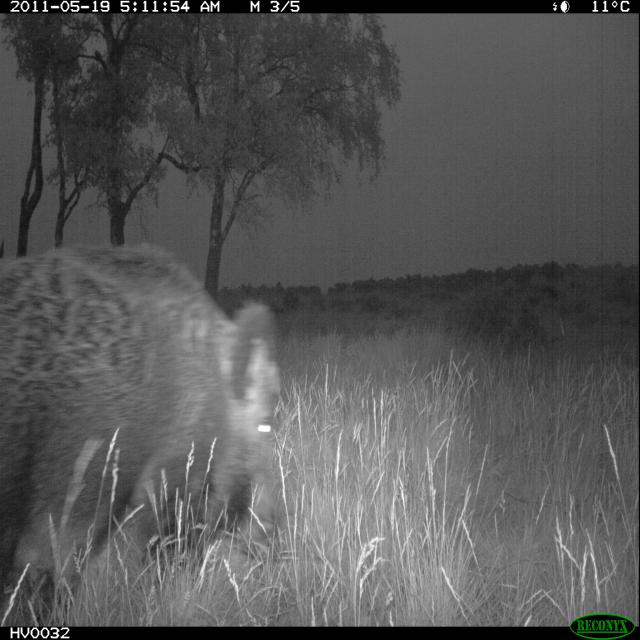boar: (0, 226, 306, 618)
